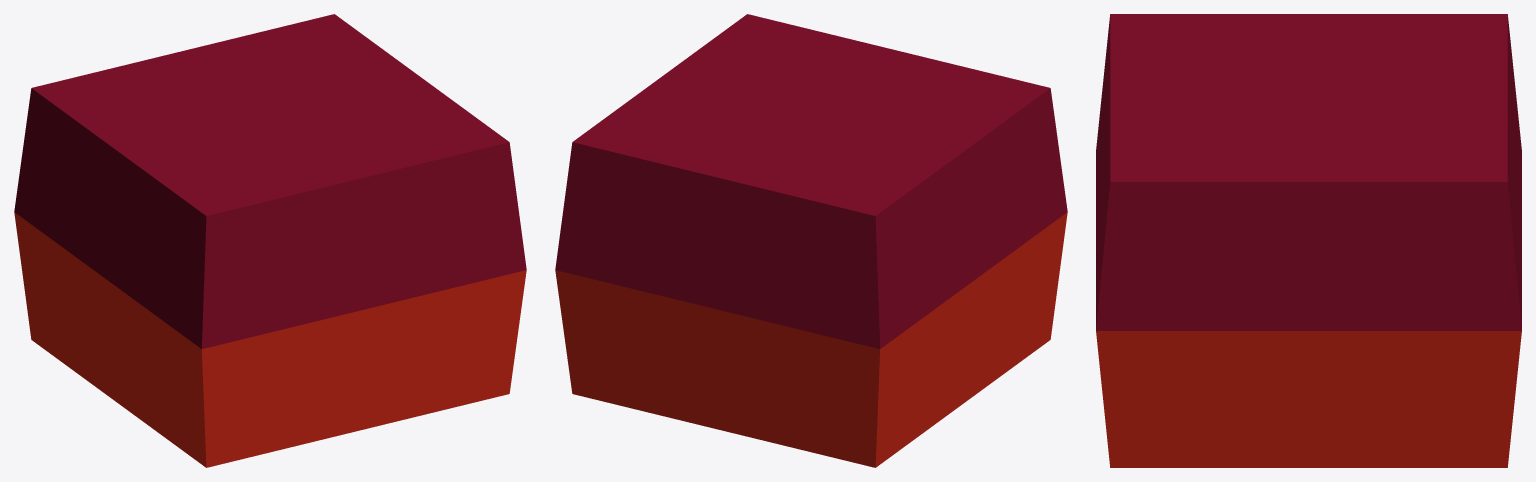
File: enemy_swallower_b.gltf
The picture shows the model from 3 angles, left to right: view 1: azimuth 30°, elevation 25°; view 2: azimuth 150°, elevation 25°; view 3: azimuth 270°, elevation 25°; orthographic projection. The views are drawn at different scales.
Parts seen in each view (by area): view 1: enemy_swallower_b; view 2: enemy_swallower_b; view 3: enemy_swallower_b.
Boxes of the visible parts, bbox=[...] form: enemy_swallower_b: bbox=[14, 14, 526, 467]; enemy_swallower_b: bbox=[555, 14, 1067, 467]; enemy_swallower_b: bbox=[1096, 14, 1521, 467].
Size of the model in its own units: 5.4 by 4 by 5.4.
